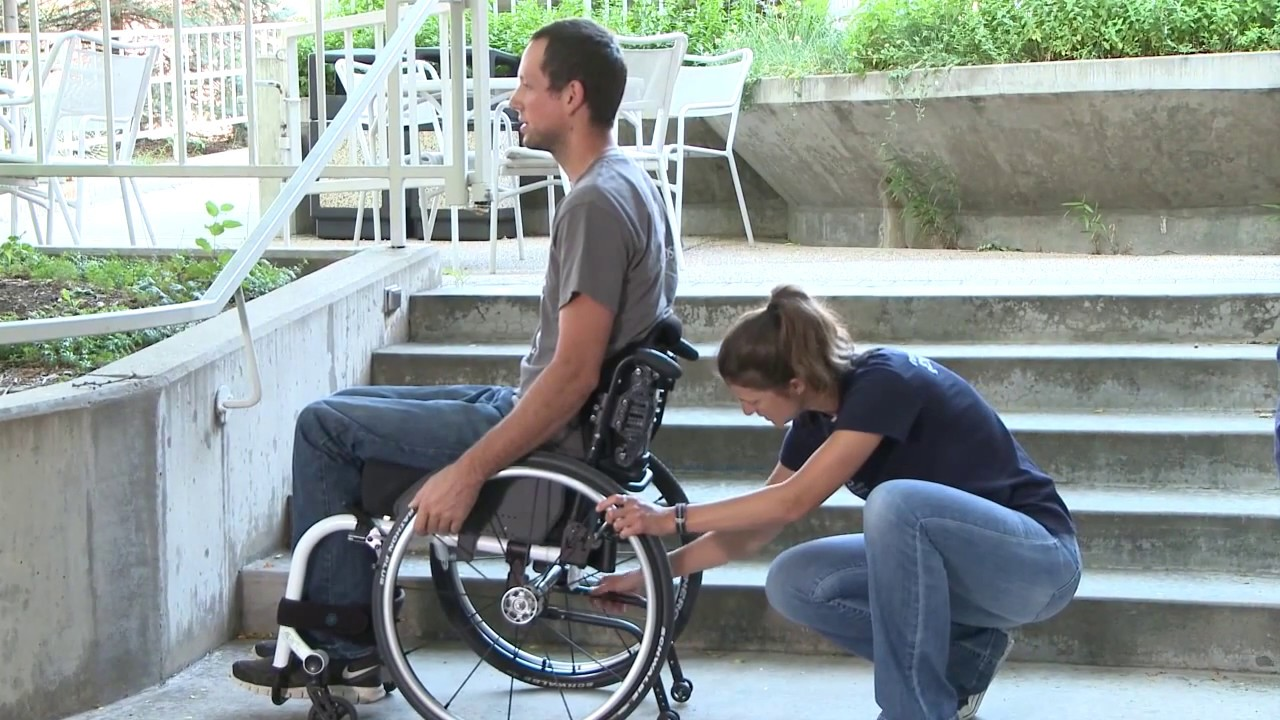wheelchair: (228, 18, 695, 720)
